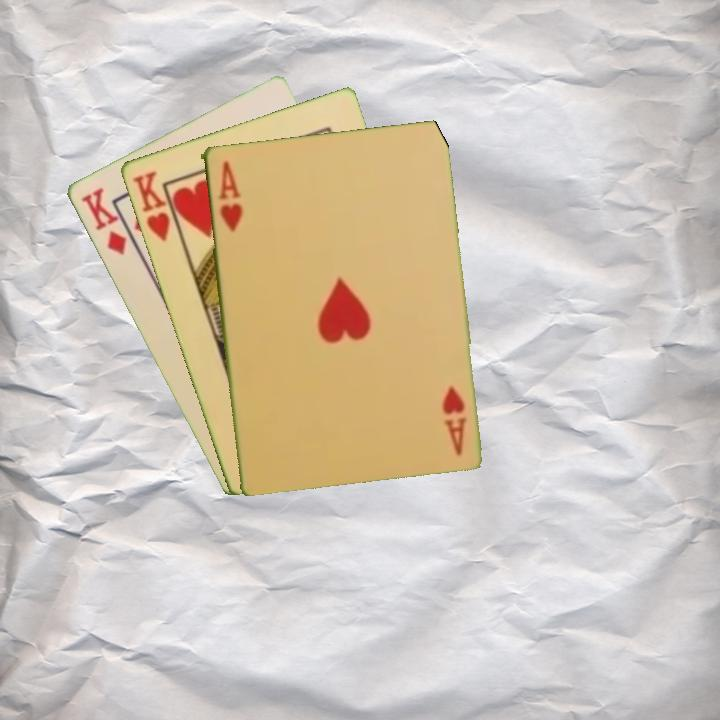Ah: (214, 157, 245, 235), (439, 382, 469, 459)
Kd: (77, 183, 129, 258)
Kh: (129, 167, 183, 244)
